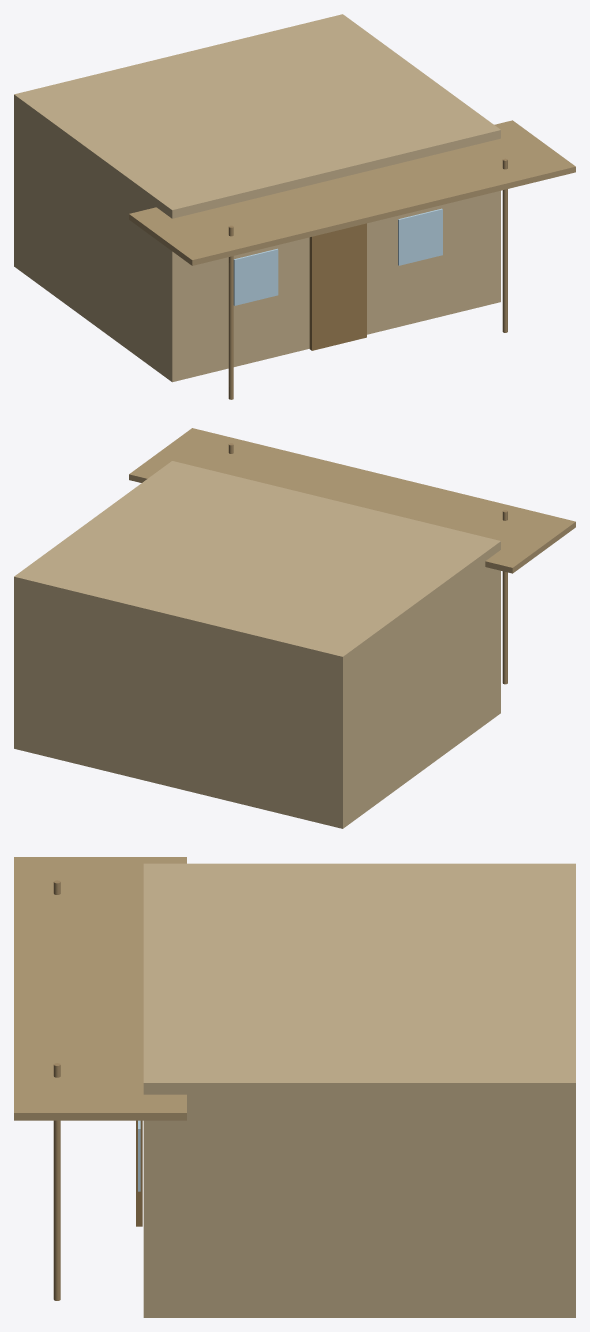
Rendered from env-ww-generalstore.glb.
The picture shows the model from 3 angles, top to bottom: view 1: azimuth 30°, elevation 25°; view 2: azimuth 150°, elevation 25°; view 3: azimuth 270°, elevation 25°; orthographic projection. The views are drawn at different scales.
Bounding box in the file's own units: 7 × 3 × 6.5.
